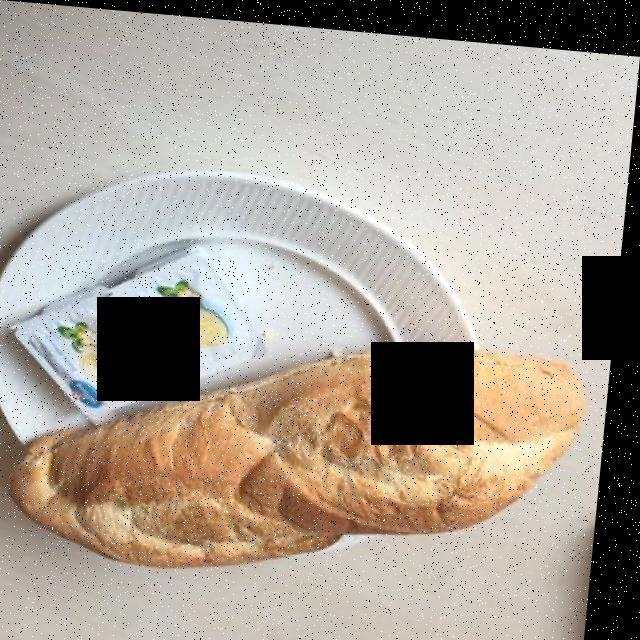bread: (24, 341, 590, 563)
